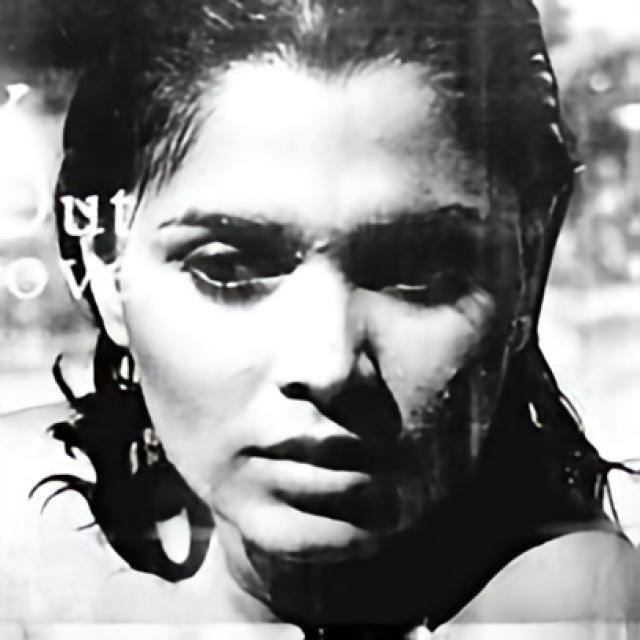anger: (111, 51, 534, 562)
